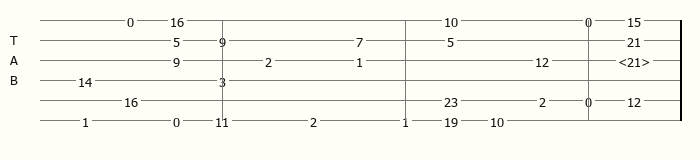0: (127, 14, 138, 27), (173, 114, 184, 127), (585, 94, 596, 107), (585, 14, 596, 27)
1: (82, 114, 93, 127), (356, 54, 367, 67), (402, 114, 413, 127)
10: (444, 14, 462, 27), (490, 114, 508, 127)
11: (215, 114, 233, 127)
12: (535, 54, 553, 67), (627, 94, 645, 107)
14: (78, 74, 96, 87)
15: (627, 14, 645, 27)
16: (124, 94, 142, 107), (170, 14, 188, 27)
19: (444, 114, 462, 127)
2: (265, 54, 276, 67), (310, 114, 321, 127), (539, 94, 550, 107)
21: (627, 34, 645, 47)
23: (444, 94, 462, 107)
3: (219, 74, 230, 87)
5: (173, 34, 184, 47), (447, 34, 458, 47)
7: (356, 34, 367, 47)
9: (173, 54, 184, 67), (219, 34, 230, 47)
harmonic: (618, 54, 654, 67)
